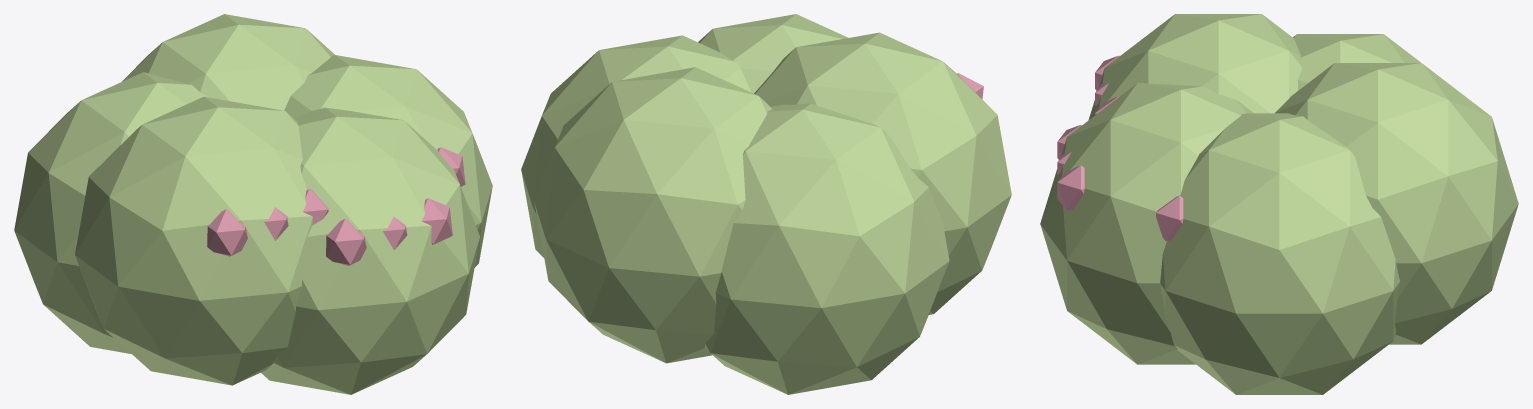
The model's file is berry_bush.fbx.
3 views of the same model, side by side, from view 1: azimuth 30°, elevation 25°; view 2: azimuth 150°, elevation 25°; view 3: azimuth 270°, elevation 25° (orthographic). The views are drawn at different scales.
Visible parts, largest first — view 1: berry_bush_mesh; view 2: berry_bush_mesh; view 3: berry_bush_mesh.
Boxes of the visible parts, x1,y1,x2,y2 form: berry_bush_mesh: (14,14,492,394); berry_bush_mesh: (521,14,1011,394); berry_bush_mesh: (1040,14,1518,394).
Size of the model in its own units: 1.27 by 0.8907 by 1.29.
